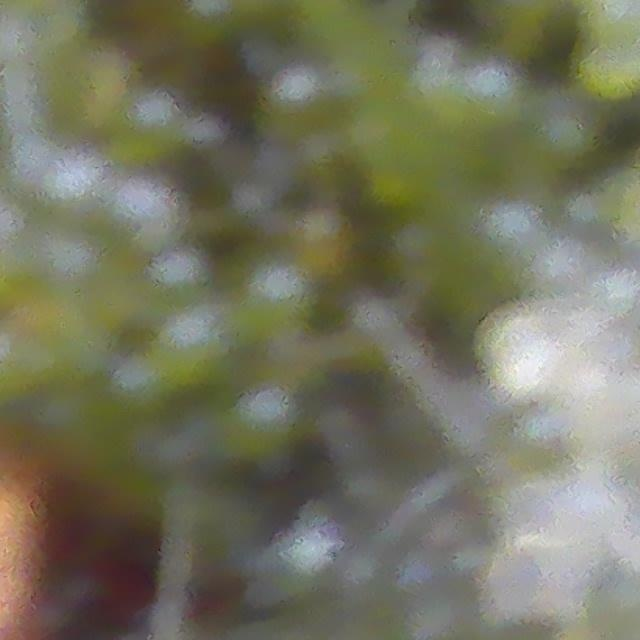SeaGrape: (479, 307, 561, 393), (555, 363, 622, 439), (481, 547, 546, 612)
